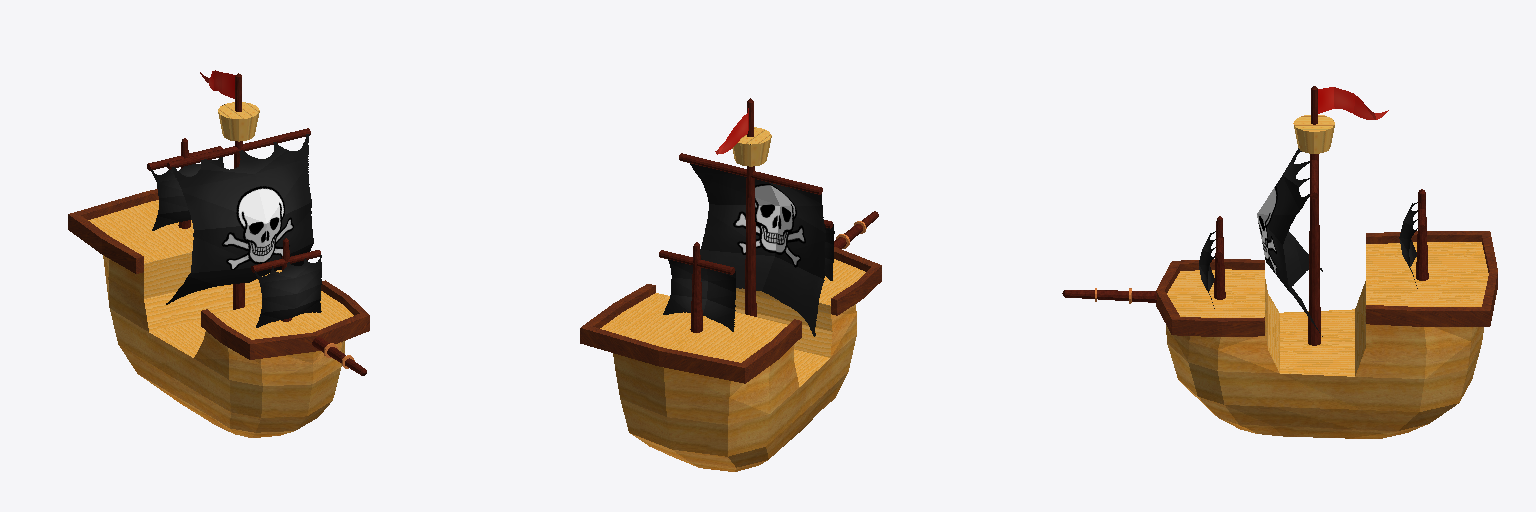
3 renders of one model, left to right at view 1: azimuth 30°, elevation 25°; view 2: azimuth 150°, elevation 25°; view 3: azimuth 270°, elevation 25°, orthographic.
Bounding box in the file's own units: 256 × 505 × 586.
1 materials, 1 textured.